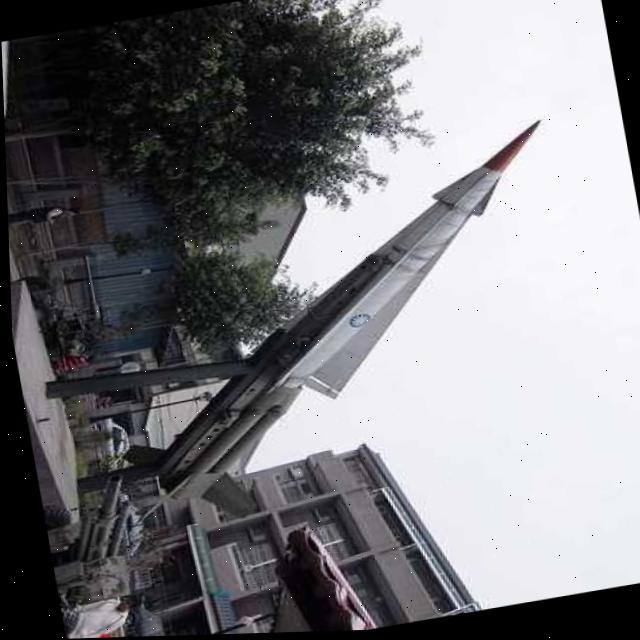missile: (203, 121, 582, 414)
